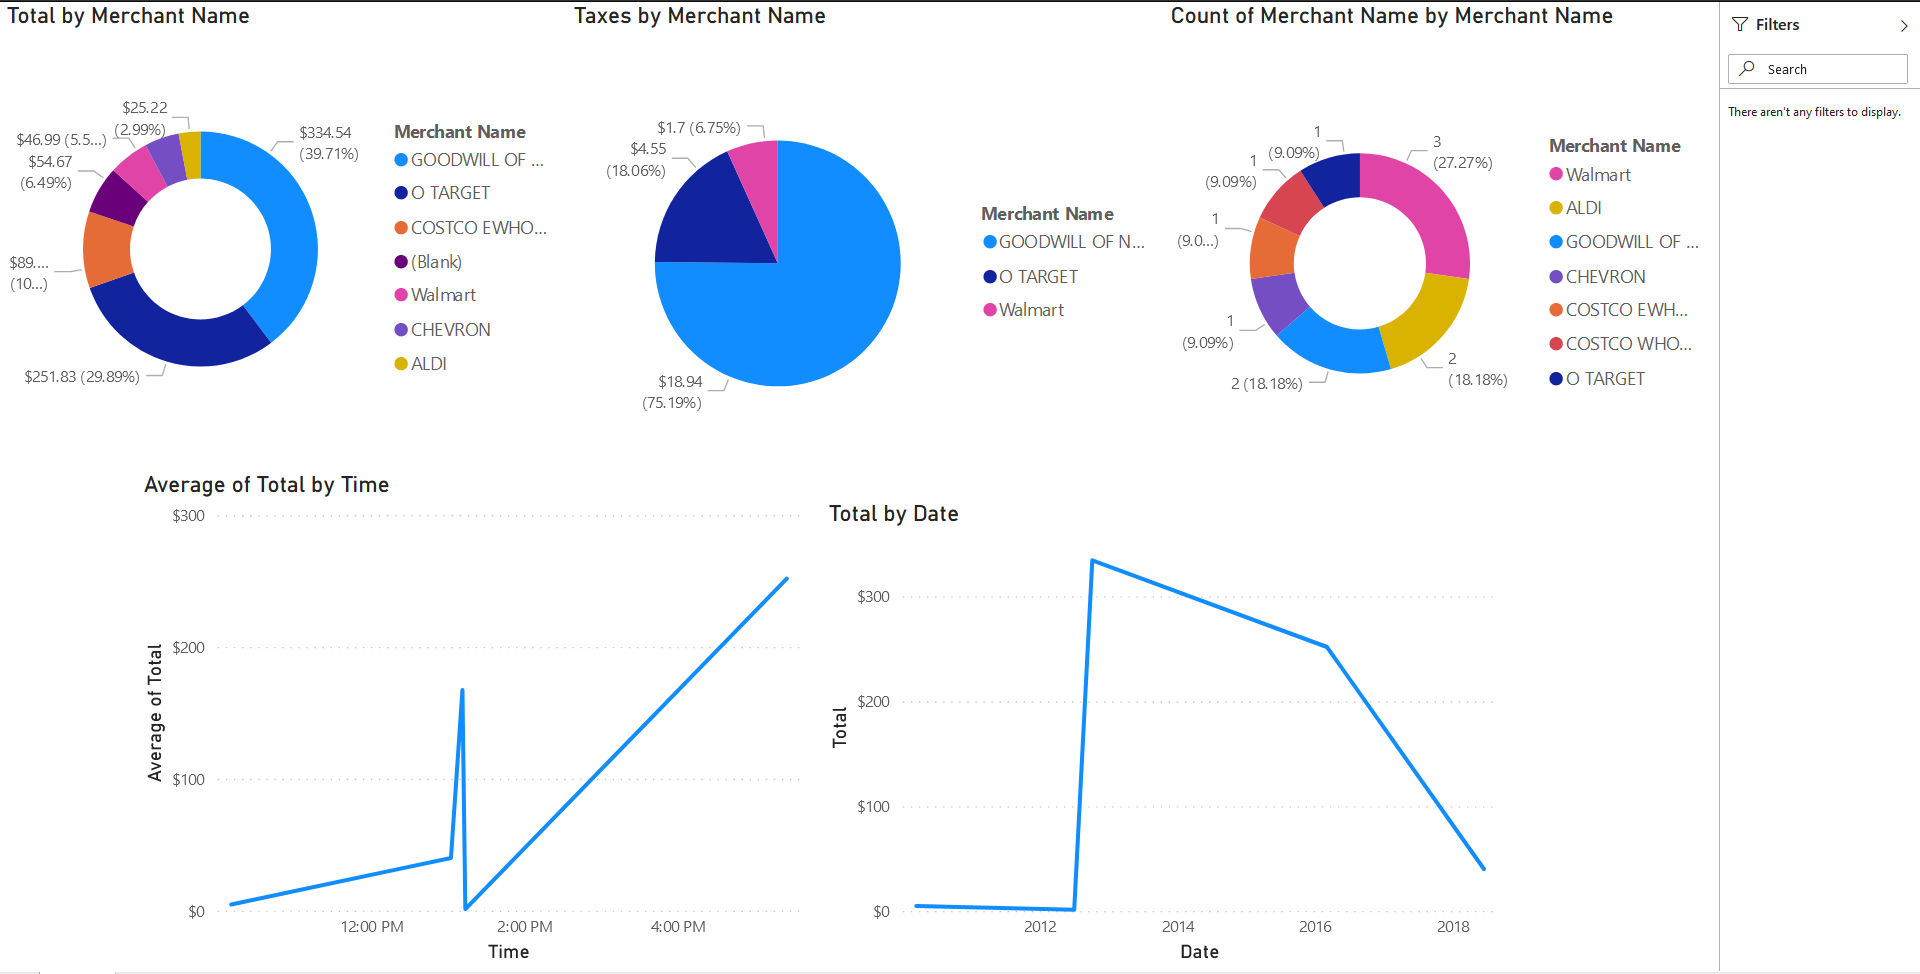

What the dashboard file says about the page in this screenshot:
{"tool":"powerbi","page":{"name":"Page 1","canvas":[1280,720],"ordinal":0},"visuals":[{"type":"donutChart","fields":{"Series":["receiptsContainer.Merchant Name"],"Y":["Sum(receiptsContainer.Total)"]},"box":[0,0,422.1,349.2],"z":0},{"type":"lineChart","fields":{"Y":["Sum(receiptsContainer.Total)"],"Category":["receiptsContainer.Date"]},"box":[611.8,370.6,509.7,349.2],"z":1},{"type":"pieChart","fields":{"Category":["receiptsContainer.Merchant Name"],"Y":["Sum(receiptsContainer.Taxes)"]},"box":[422.1,0,444.5,370.6],"z":2},{"type":"lineChart","fields":{"Category":["receiptsContainer.Time"],"Y":["Avg(receiptsContainer.Total)"]},"box":[102.1,349.2,509.7,370.6],"z":3},{"type":"donutChart","fields":{"Category":["receiptsContainer.Merchant Name"],"Y":["CountNonNull(receiptsContainer.Merchant Name)"]},"box":[866.6,0,413.4,370.6],"z":4}]}

Visuals, with their boxes on the page's 1280x720 design canvas (x1, y1, x2, y2). These are canvas units, not pixel positions in the 1920x974 screenshot, which may show the page scaled, cropped or inside an application window:
donutChart - receiptsContainer.Merchant Name x Sum(receiptsContainer.Total): [left=0, top=0, right=422, bottom=349]
lineChart - Sum(receiptsContainer.Total) x receiptsContainer.Date: [left=612, top=371, right=1122, bottom=720]
pieChart - receiptsContainer.Merchant Name x Sum(receiptsContainer.Taxes): [left=422, top=0, right=867, bottom=371]
lineChart - receiptsContainer.Time x Avg(receiptsContainer.Total): [left=102, top=349, right=612, bottom=720]
donutChart - receiptsContainer.Merchant Name x CountNonNull(receiptsContainer.Merchant Name): [left=867, top=0, right=1280, bottom=371]
